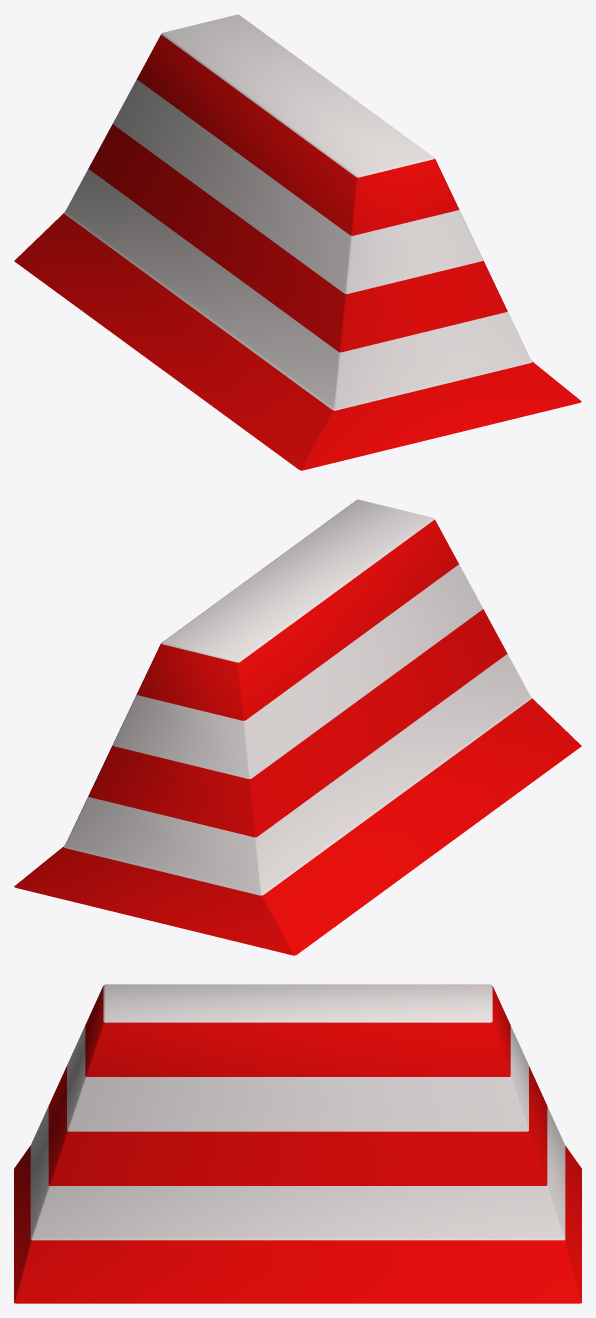
File: Obstacle.fbx
3 views of the same model, one above another, from view 1: azimuth 30°, elevation 25°; view 2: azimuth 150°, elevation 25°; view 3: azimuth 270°, elevation 25° (orthographic).
Visible parts, largest first — view 1: Obstacle; view 2: Obstacle; view 3: Obstacle.
Part boxes in pixels (left/top/right/bottom): Obstacle: left=14, top=14, right=581, bottom=470; Obstacle: left=14, top=499, right=581, bottom=955; Obstacle: left=14, top=984, right=581, bottom=1303.
Bounding box in the file's own units: 2.5 × 2 × 4.41.
